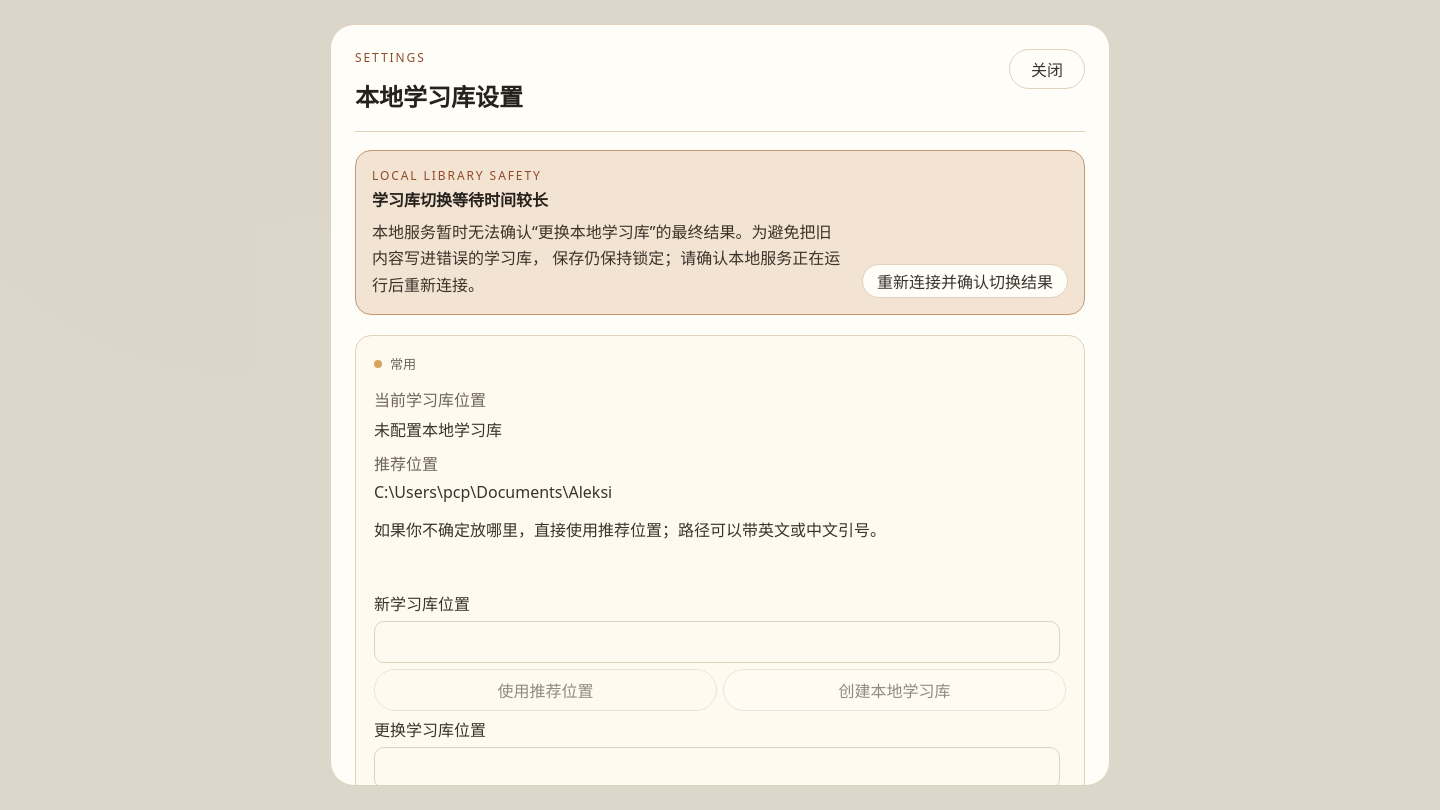
Test case: settings delayed-switch recovery › keeps writes locked and offers an explicit retry when service reconciliation is required
Check: the text "本地服务暂时无法确认" is shown, box [372,221,538,243]
Click the button "重新连接并确认切换结果" at coordinates (965, 281), box [862,264,1068,298]
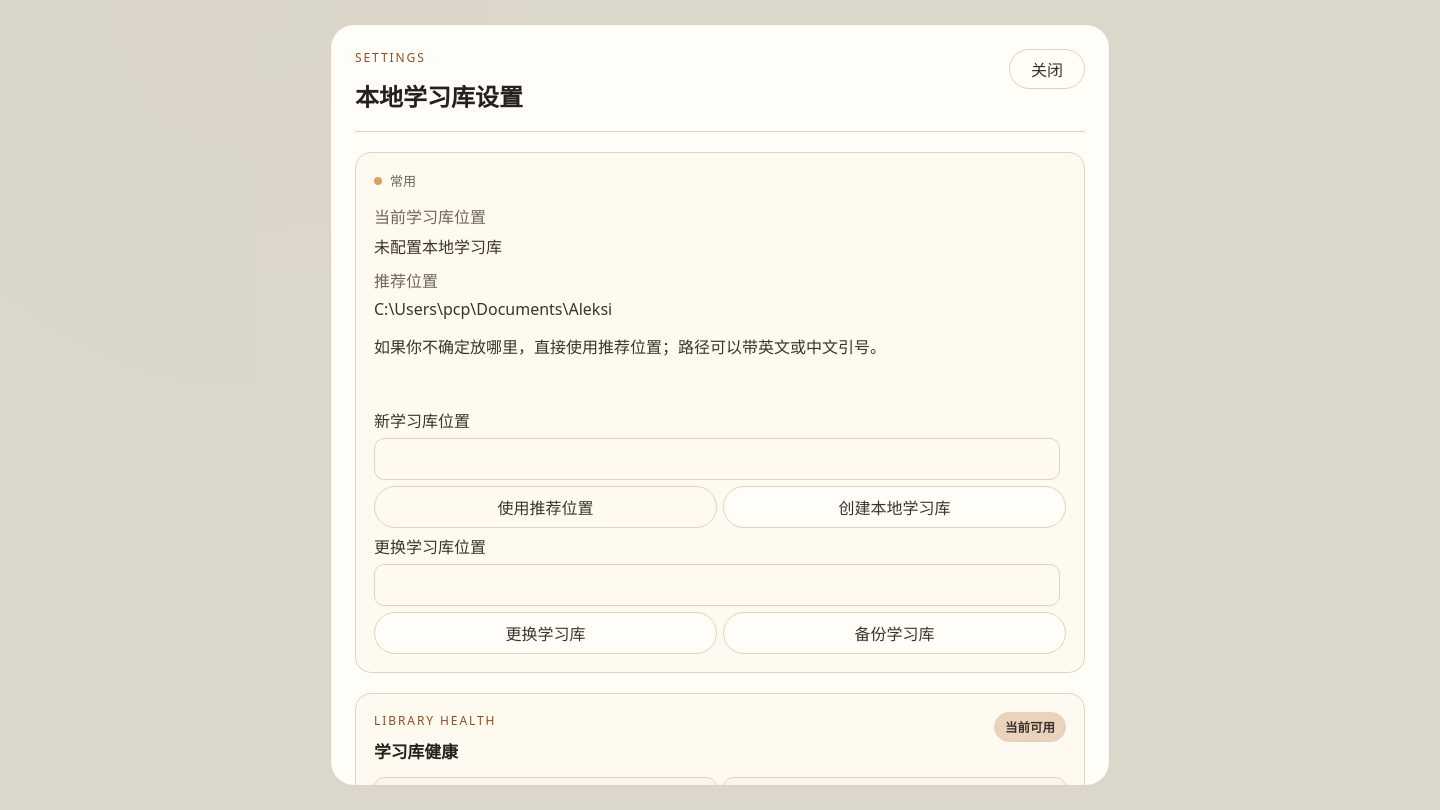
Check: the button "重新连接并确认切换结果" is gone
